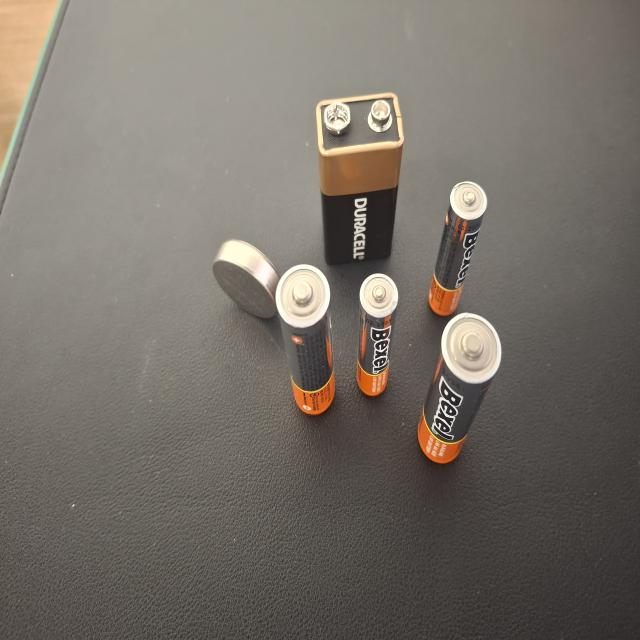9V: (281, 422, 410, 538)
AA: (132, 557, 245, 640), (169, 368, 282, 446)
AAA: (243, 572, 343, 640), (183, 476, 275, 531)
COIN: (242, 284, 300, 372)
